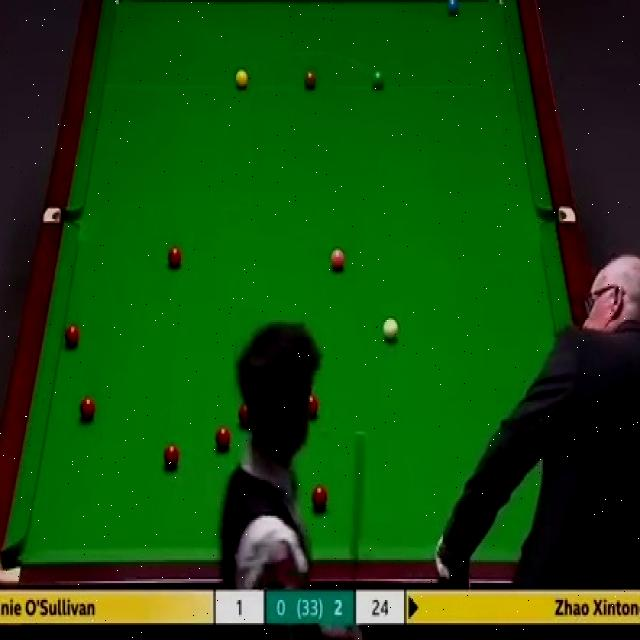blue-ball: (446, 0, 459, 19)
brown-ball: (304, 70, 318, 90)
green-ball: (370, 70, 386, 92)
pink-ball: (329, 246, 346, 275)
red-ball: (214, 424, 232, 452), (63, 324, 81, 348), (237, 401, 253, 426), (164, 442, 178, 470), (311, 485, 327, 509), (166, 244, 181, 267), (309, 391, 320, 422), (81, 396, 94, 421)
white-ball: (383, 315, 398, 346)
yellow-ball: (233, 69, 250, 90)
